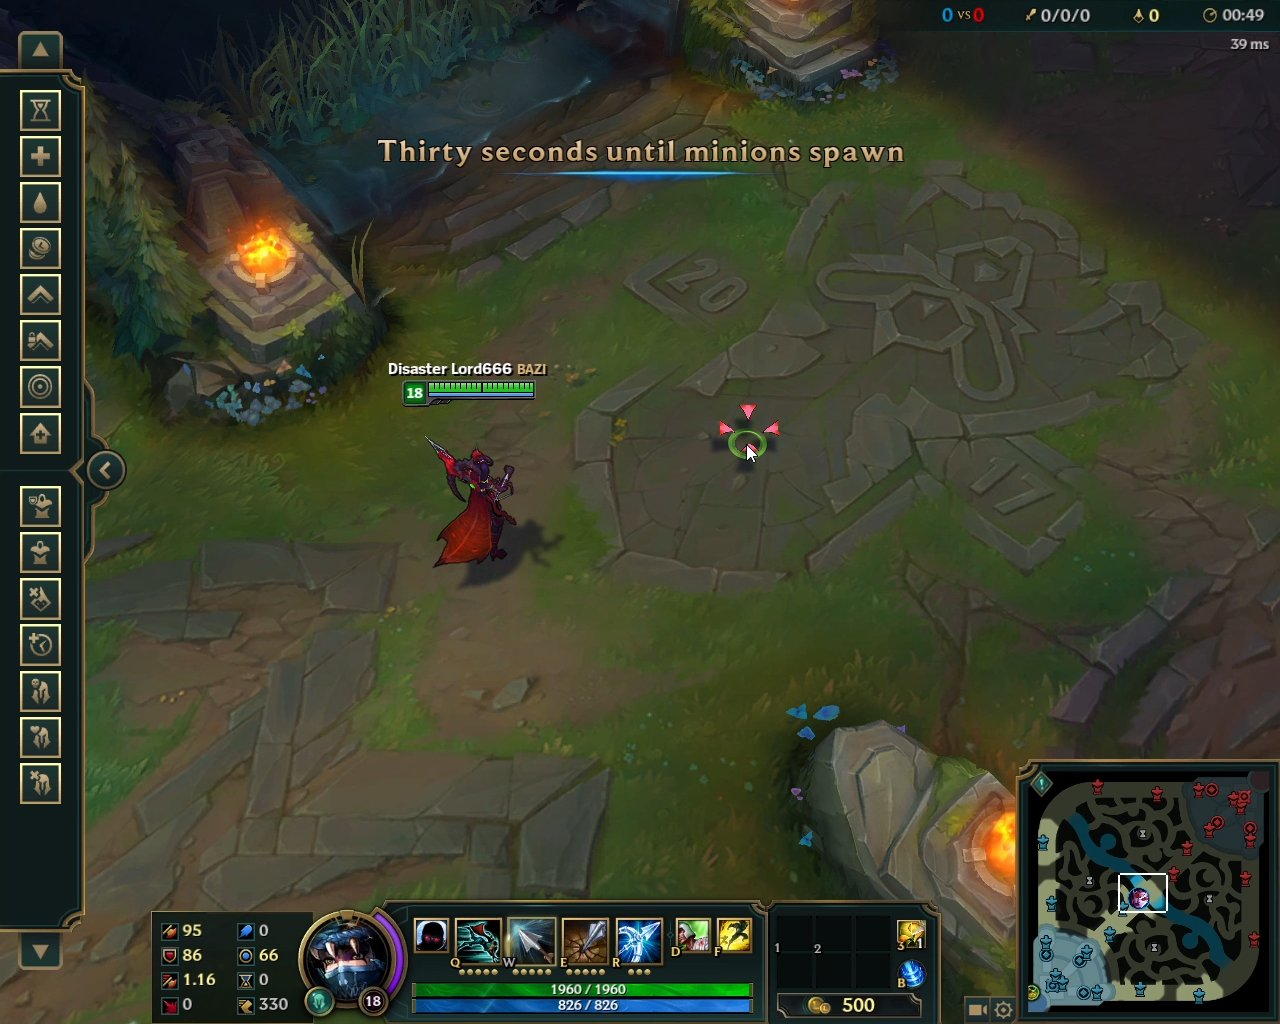Vayne: (412, 432, 529, 578)
